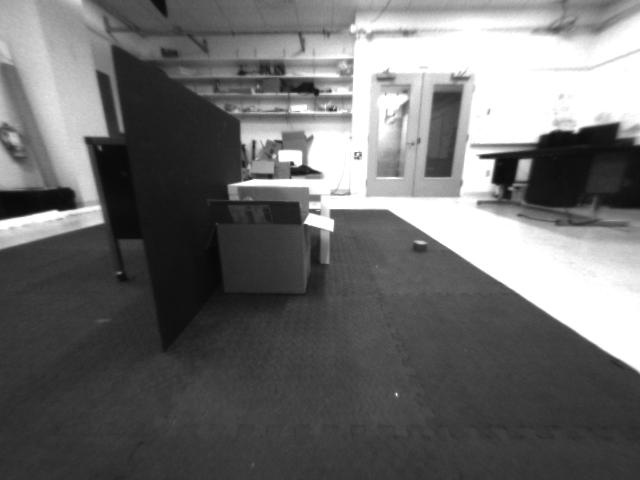dogtoy: (404, 232, 436, 260)
